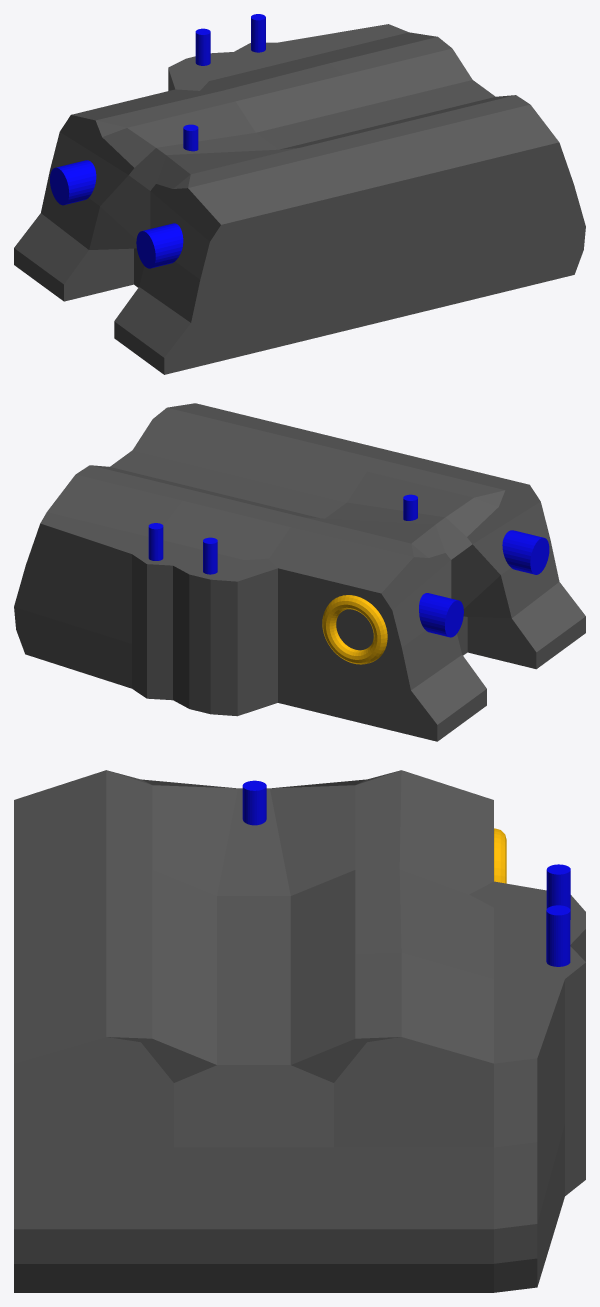
Rendered from DC DC Converter !.fbx.
3 views of the same model, one above another, from view 1: azimuth 30°, elevation 25°; view 2: azimuth 150°, elevation 25°; view 3: azimuth 270°, elevation 25° (orthographic). The views are drawn at different scales.
Parts seen in each view (by area): view 1: Capacitor; view 2: Capacitor; view 3: Capacitor.
Part boxes in pixels (box(x1,y1,x2,y2)): Capacitor: box(14, 14, 585, 374); Capacitor: box(14, 403, 585, 741); Capacitor: box(14, 770, 585, 1292).
Size of the model in its own units: 648 by 247 by 477.
